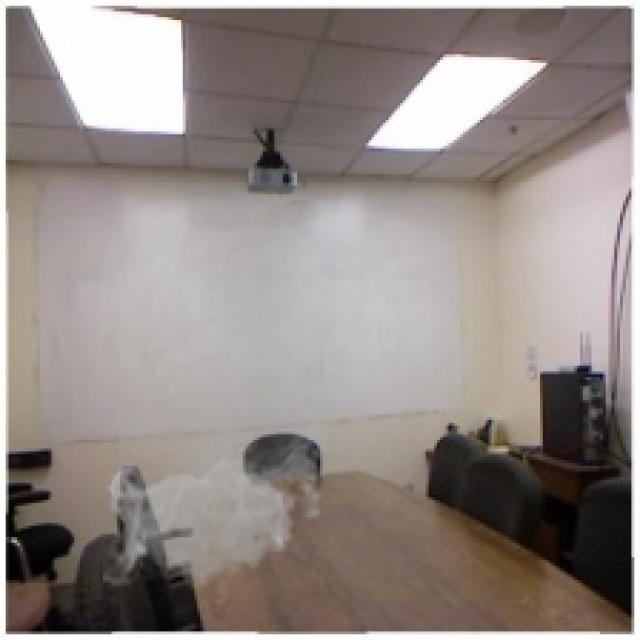smoke: (103, 394, 337, 597)
